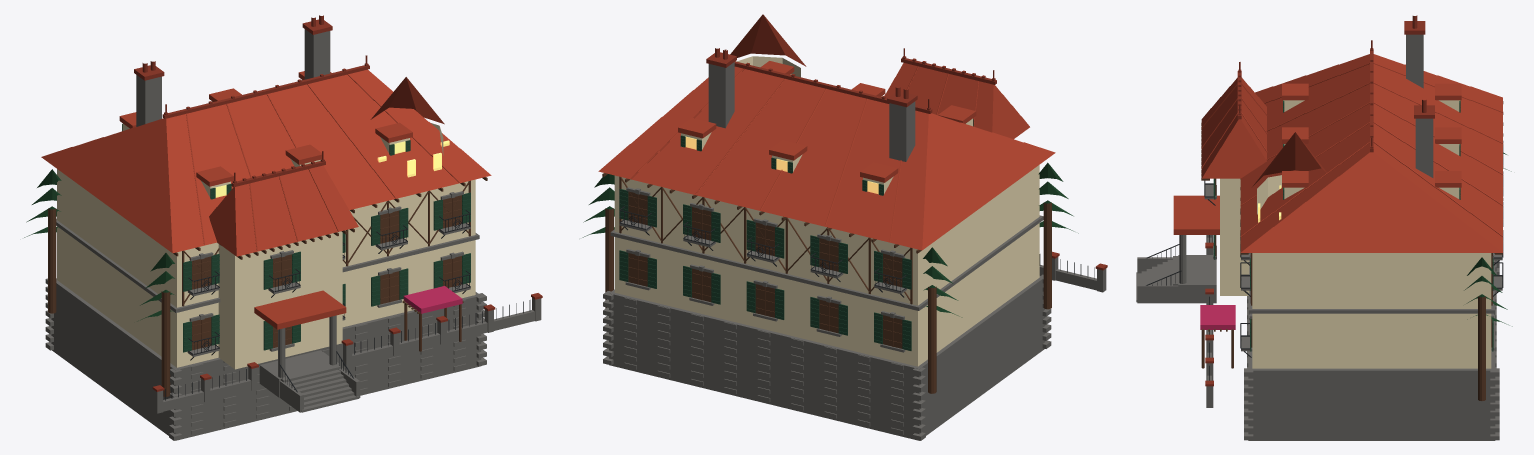
The model's file is fv_cb_05_cuc_ban_do_cartography_printing_wing.glb.
The picture shows the model from 3 angles, left to right: view 1: azimuth 30°, elevation 25°; view 2: azimuth 150°, elevation 25°; view 3: azimuth 270°, elevation 25°; orthographic projection.
Visible parts, largest first — view 1: marseille_corrugated_roof_tiles, granite_foundation_and_stairs, stucco_facade_and_dormers, colombage_timber_and_eaves, pine_green_louvered_shutters, ridge_cresting_and_chimneys, wrought_iron_balconies_3d, pine_trees_and_garden_hedges, bougainvillea_pergola_clusters, warm_night_windows_ffb86c; view 2: marseille_corrugated_roof_tiles, granite_foundation_and_stairs, stucco_facade_and_dormers, colombage_timber_and_eaves, pine_green_louvered_shutters, ridge_cresting_and_chimneys, pine_trees_and_garden_hedges, wrought_iron_balconies_3d; view 3: marseille_corrugated_roof_tiles, stucco_facade_and_dormers, granite_foundation_and_stairs, colombage_timber_and_eaves, ridge_cresting_and_chimneys, bougainvillea_pergola_clusters, wrought_iron_balconies_3d, pine_green_louvered_shutters, pine_trees_and_garden_hedges.
Boxes of the visible parts, left/top/right/bottom form: marseille_corrugated_roof_tiles: left=41, top=69, right=491, bottom=329; granite_foundation_and_stairs: left=45, top=29, right=541, bottom=440; stucco_facade_and_dormers: left=57, top=80, right=475, bottom=369; colombage_timber_and_eaves: left=48, top=177, right=487, bottom=396; pine_green_louvered_shutters: left=122, top=124, right=470, bottom=352; ridge_cresting_and_chimneys: left=134, top=15, right=542, bottom=391; wrought_iron_balconies_3d: left=165, top=210, right=530, bottom=400; pine_trees_and_garden_hedges: left=24, top=169, right=174, bottom=321; bougainvillea_pergola_clusters: left=403, top=286, right=462, bottom=313; warm_night_windows_ffb86c: left=215, top=140, right=449, bottom=197; marseille_corrugated_roof_tiles: left=598, top=14, right=1055, bottom=250; granite_foundation_and_stairs: left=603, top=62, right=1106, bottom=440; stucco_facade_and_dormers: left=614, top=56, right=1039, bottom=366; colombage_timber_and_eaves: left=602, top=173, right=1051, bottom=393; pine_green_louvered_shutters: left=619, top=119, right=973, bottom=350; ridge_cresting_and_chimneys: left=706, top=48, right=1107, bottom=270; pine_trees_and_garden_hedges: left=582, top=162, right=1078, bottom=317; wrought_iron_balconies_3d: left=619, top=206, right=1094, bottom=297; marseille_corrugated_roof_tiles: left=1173, top=54, right=1503, bottom=252; stucco_facade_and_dormers: left=1220, top=100, right=1491, bottom=368; granite_foundation_and_stairs: left=1136, top=34, right=1502, bottom=440; colombage_timber_and_eaves: left=1201, top=101, right=1503, bottom=400; ridge_cresting_and_chimneys: left=1205, top=15, right=1434, bottom=386; bougainvillea_pergola_clusters: left=1200, top=305, right=1235, bottom=329; wrought_iron_balconies_3d: left=1146, top=141, right=1503, bottom=380; pine_green_louvered_shutters: left=1213, top=100, right=1493, bottom=351; pine_trees_and_garden_hedges: left=1464, top=152, right=1512, bottom=326.
Bounding box in the file's own units: 27.12 × 20.43 × 23.42.
